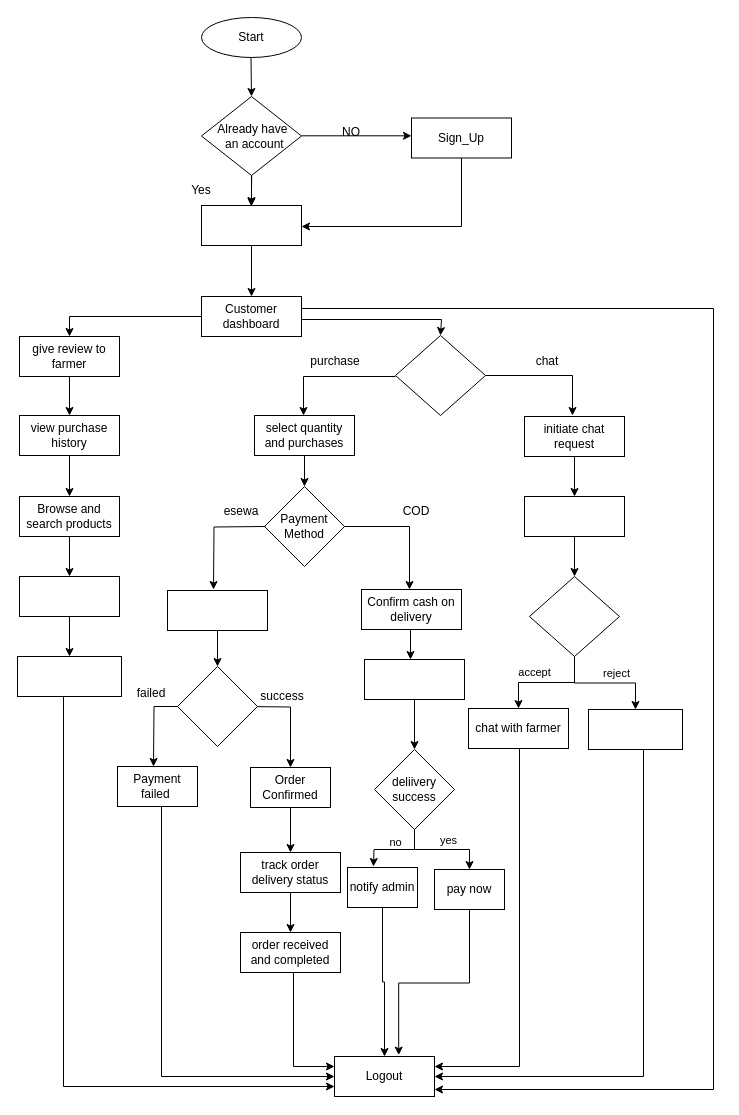
Image size: 739x1115. Some labels were removed from this diagram. The shapes that lost their labels are listed below. From the top down, each one's centre as x and y in pixels, then its label:
At point (251, 225): "Login".
At point (440, 375): "desired action".
At point (574, 516): "wait for farmer acceptance".
At point (69, 596): "filter by: price, location, date".
At point (217, 610): "process online payment".
At point (574, 616): "request acceptance".
At point (69, 676): "view product detail with farmer info".
At point (414, 679): "waiting for delivery".
At point (217, 706): "payment status".
At point (635, 729): "requst declined notification".
